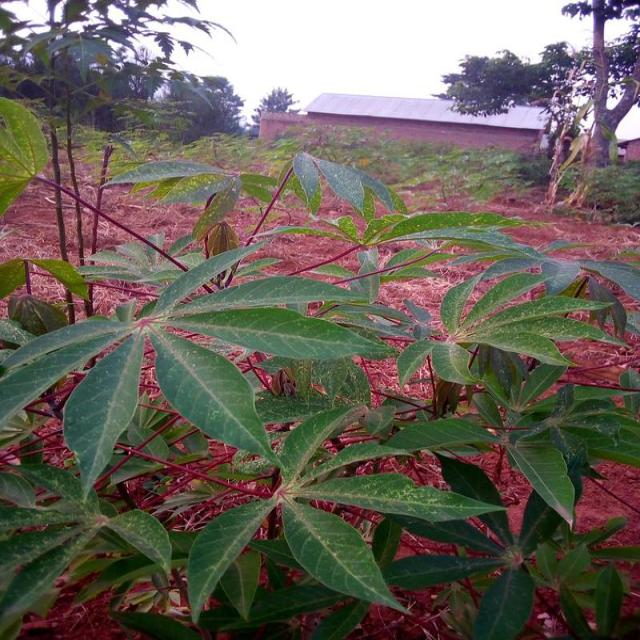cassava leaf: (0, 147, 638, 637), (146, 322, 282, 472), (279, 493, 412, 616), (62, 328, 144, 502)
